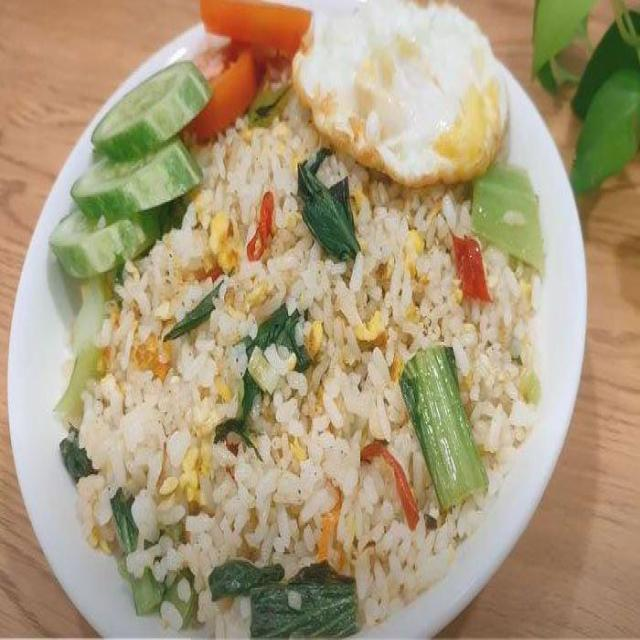Nasi Goreng: (88, 112, 528, 581)
